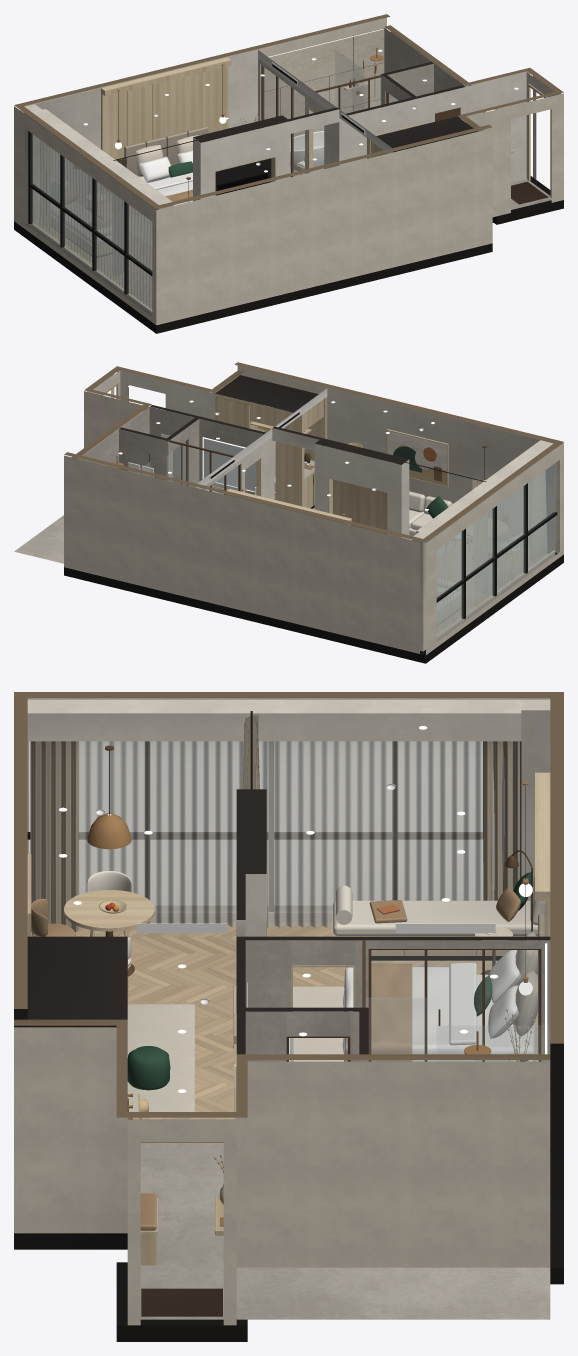
The model's file is user-suite-processed.glb.
3 renders of one model, top to bottom at view 1: azimuth 30°, elevation 25°; view 2: azimuth 150°, elevation 25°; view 3: azimuth 270°, elevation 25°, orthographic. The views are drawn at different scales.
Visible parts, largest first — view 1: Shell 墙体天花 [S 南墙], BathWalls 卫浴墙体与玻璃, Window 窗与窗帘 [W 西窗墙], BedWall 床头背景墙, Shell 墙体天花 [N 北墙], Floor 地面, Shell 墙体天花 [W 西窗墙], IslandWall 中岛墙, EntryWalls 玄关墙面, Bed 床, Shower 淋浴区, LuggageWardrobe 行李位与衣柜 (+9 smaller); view 2: Shell 墙体天花 [N 北墙], Window 窗与窗帘 [W 西窗墙], Shell 墙体天花 [S 南墙], BathWalls 卫浴墙体与玻璃, Floor 地面, IslandWall 中岛墙, Shell 墙体天花 [W 西窗墙], LuggageWardrobe 行李位与衣柜, Bar 吧台, Art 挂画 [S 南墙], EntryWalls 玄关墙面 [S 南墙], TV 旋转电视 (+7 smaller); view 3: Window 窗与窗帘 [W 西窗墙], Shell 墙体天花 [E 东墙], Floor 地面, BathWalls 卫浴墙体与玻璃, Bed 床, LuggageWardrobe 行李位与衣柜, Daybed 窗边卧榻, Shell 墙体天花 [N 北墙], Shell 墙体天花 [S 南墙], LivingRug 客厅地毯, Shell 墙体天花 [W 西窗墙], IslandWall 中岛墙 (+10 smaller).
Boxes of the visible parts, box(x1,y1,x2,y2) form: Shell 墙体天花 [S 南墙]: box(153, 90, 563, 325); BathWalls 卫浴墙体与玻璃: box(258, 27, 465, 177); Window 窗与窗帘 [W 西窗墙]: box(23, 104, 173, 316); BedWall 床头背景墙: box(101, 57, 231, 203); Shell 墙体天花 [N 北墙]: box(20, 14, 532, 206); Floor 地面: box(14, 168, 563, 333); Shell 墙体天花 [W 西窗墙]: box(14, 103, 162, 324); IslandWall 中岛墙: box(193, 115, 290, 200); EntryWalls 玄关墙面: box(465, 72, 526, 182); Bed 床: box(135, 135, 202, 205); Shower 淋浴区: box(335, 48, 383, 113); LuggageWardrobe 行李位与衣柜: box(376, 116, 477, 152); Shell 墙体天花 [N 北墙]: box(64, 388, 422, 653); Window 窗与窗帘 [W 西窗墙]: box(412, 440, 557, 651); Shell 墙体天花 [S 南墙]: box(114, 362, 563, 553); BathWalls 卫浴墙体与玻璃: box(79, 405, 274, 499); Floor 地面: box(14, 507, 563, 663); IslandWall 中岛墙: box(314, 438, 409, 539); Shell 墙体天花 [W 西窗墙]: box(420, 443, 563, 654); LuggageWardrobe 行李位与衣柜: box(215, 375, 318, 500); Bar 吧台: box(278, 397, 327, 508); Art 挂画 [S 南墙]: box(386, 429, 448, 487); EntryWalls 玄关墙面 [S 南墙]: box(120, 370, 214, 422); TV 旋转电视: box(333, 479, 386, 533); Window 窗与窗帘 [W 西窗墙]: box(27, 699, 550, 931); Shell 墙体天花 [E 东墙]: box(14, 1019, 550, 1325); Floor 地面: box(14, 923, 563, 1341); BathWalls 卫浴墙体与玻璃: box(236, 936, 550, 1061); Bed 床: box(342, 931, 537, 1061); LuggageWardrobe 行李位与衣柜: box(27, 936, 128, 1111); Daybed 窗边卧榻: box(332, 872, 545, 960); Shell 墙体天花 [N 北墙]: box(236, 698, 563, 1117); Shell 墙体天花 [S 南墙]: box(14, 692, 127, 1117); LivingRug 客厅地毯: box(127, 1004, 194, 1111); Shell 墙体天花 [W 西窗墙]: box(14, 692, 563, 910); IslandWall 中岛墙: box(233, 789, 266, 1047).
Bounding box in the file's own units: 10.65 × 2.92 × 6.05.
Materials: 61 (14 with a texture image).
